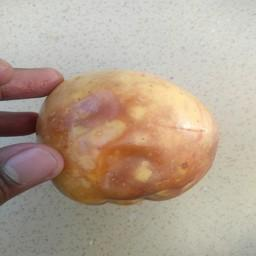Bad_apple: (37, 67, 219, 210)
